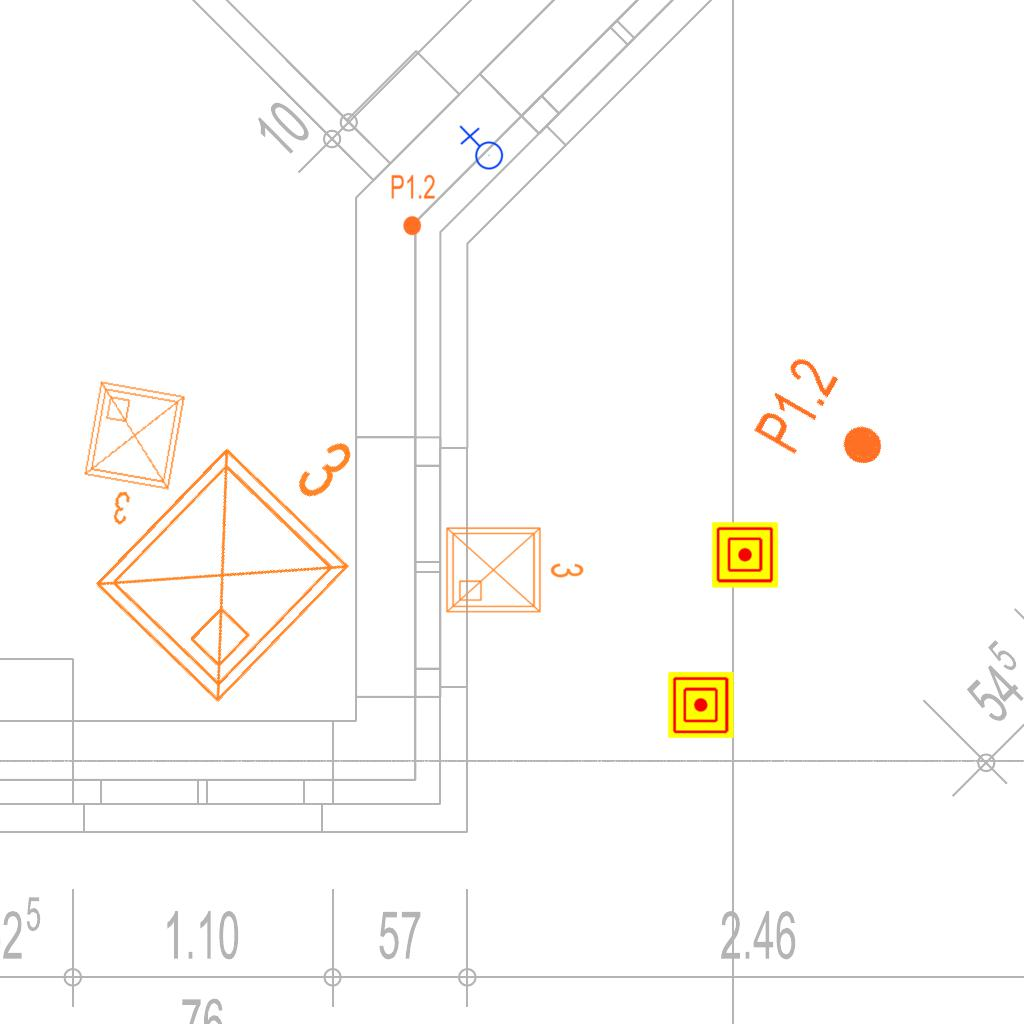Downlight_LED_Einbauleuchten_Flur: (748, 350, 907, 496), (390, 173, 436, 237)
Einbaudownlights_LED_Konferenzraeume: (68, 362, 428, 724), (68, 373, 198, 539), (439, 516, 589, 620)
Elektroanschluss_allgemein_230V_Geraeteanschlussdose_230V: (457, 125, 504, 174)
NAM-Nichtautomatischer_Melder: (668, 672, 734, 738), (712, 522, 778, 588)
